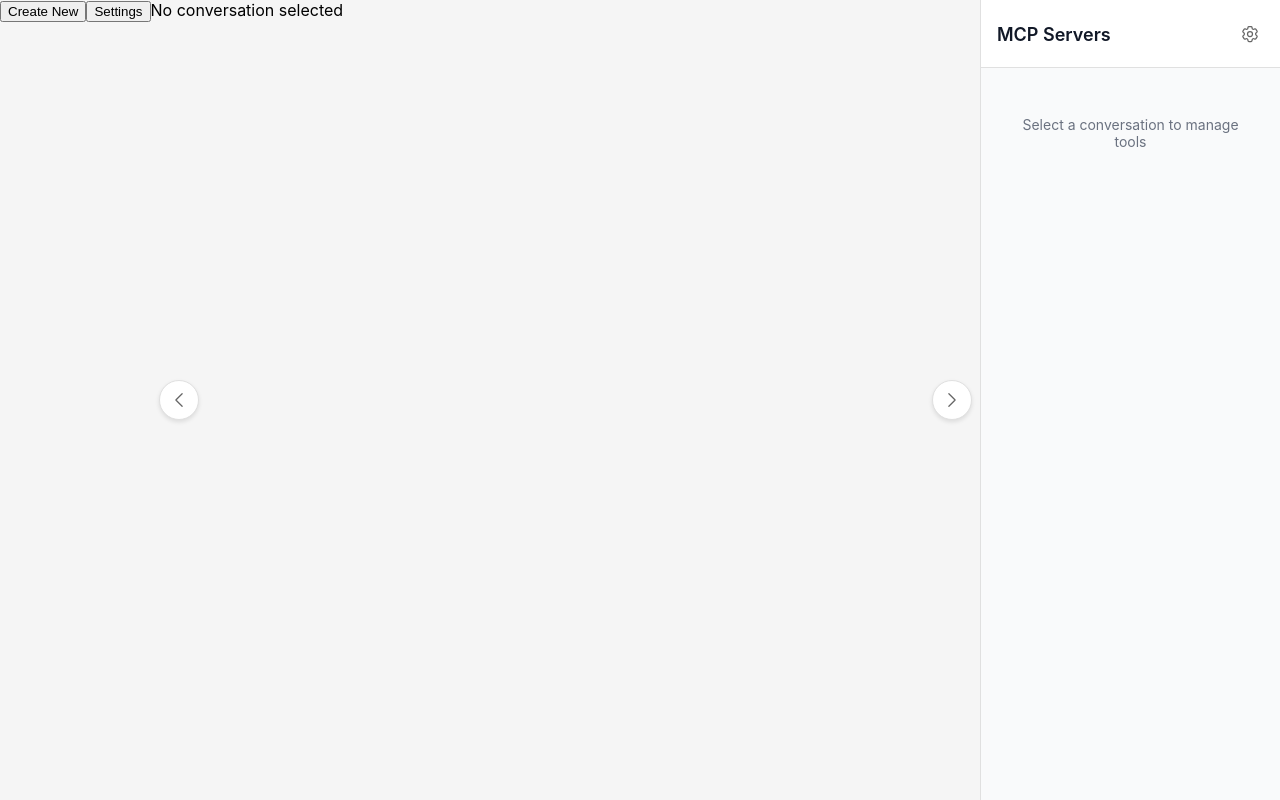
App Integration › shows settings modal when settings button is clicked
Click the button titled "Settings". click: [118, 12]
box: [86,1,151,22]
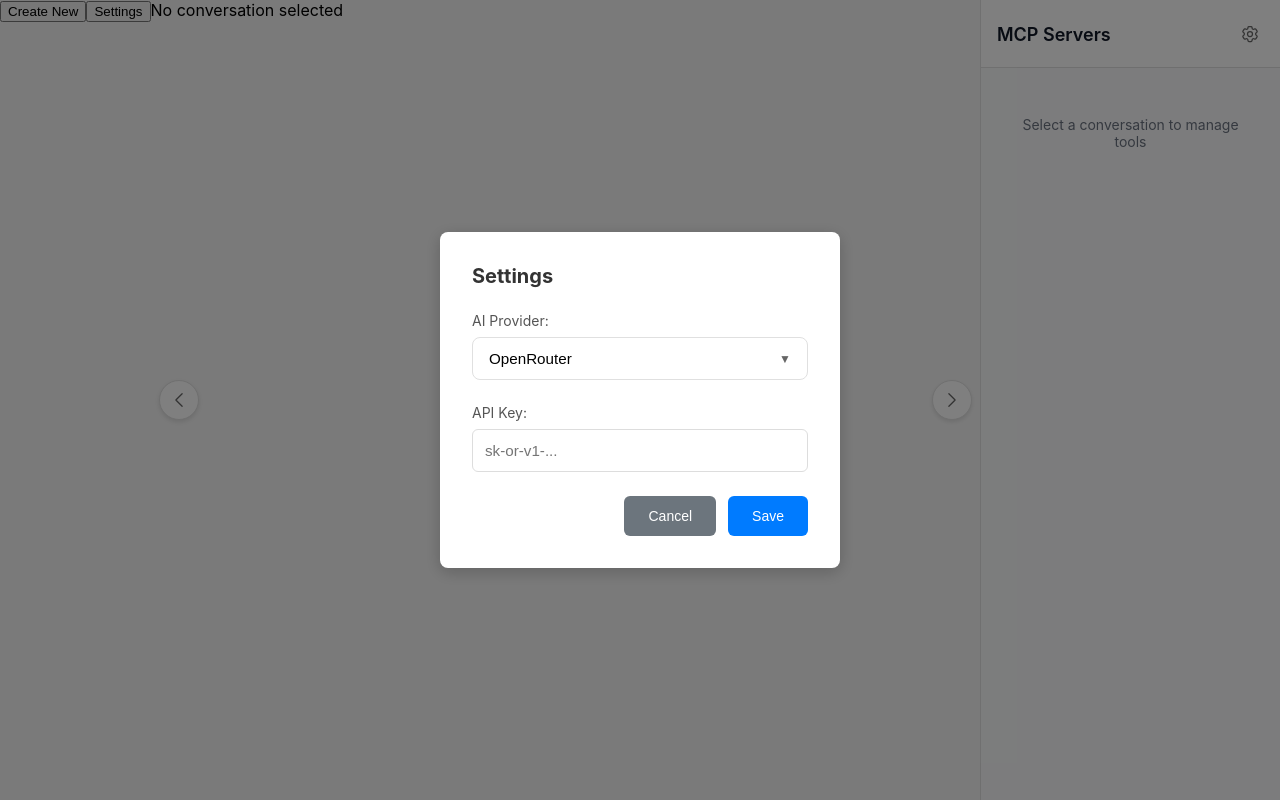
Check: the heading "Settings" is shown, box [472,264,553,288]
Check: the text "AI Provider:" is shown, box [472,312,549,329]
Check: the text "API Key:" is shown, box [472,404,527,421]
